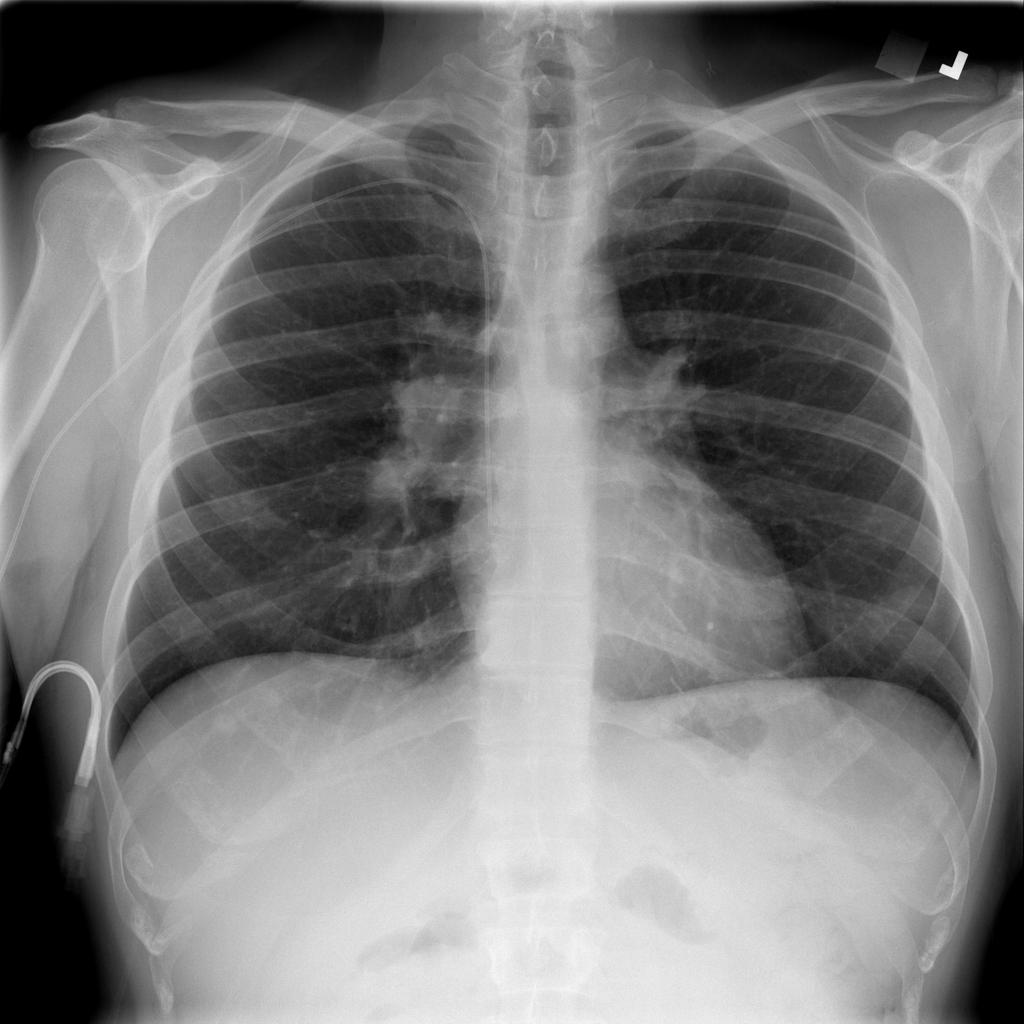nodule: (854, 558, 967, 662), (190, 687, 267, 757)
